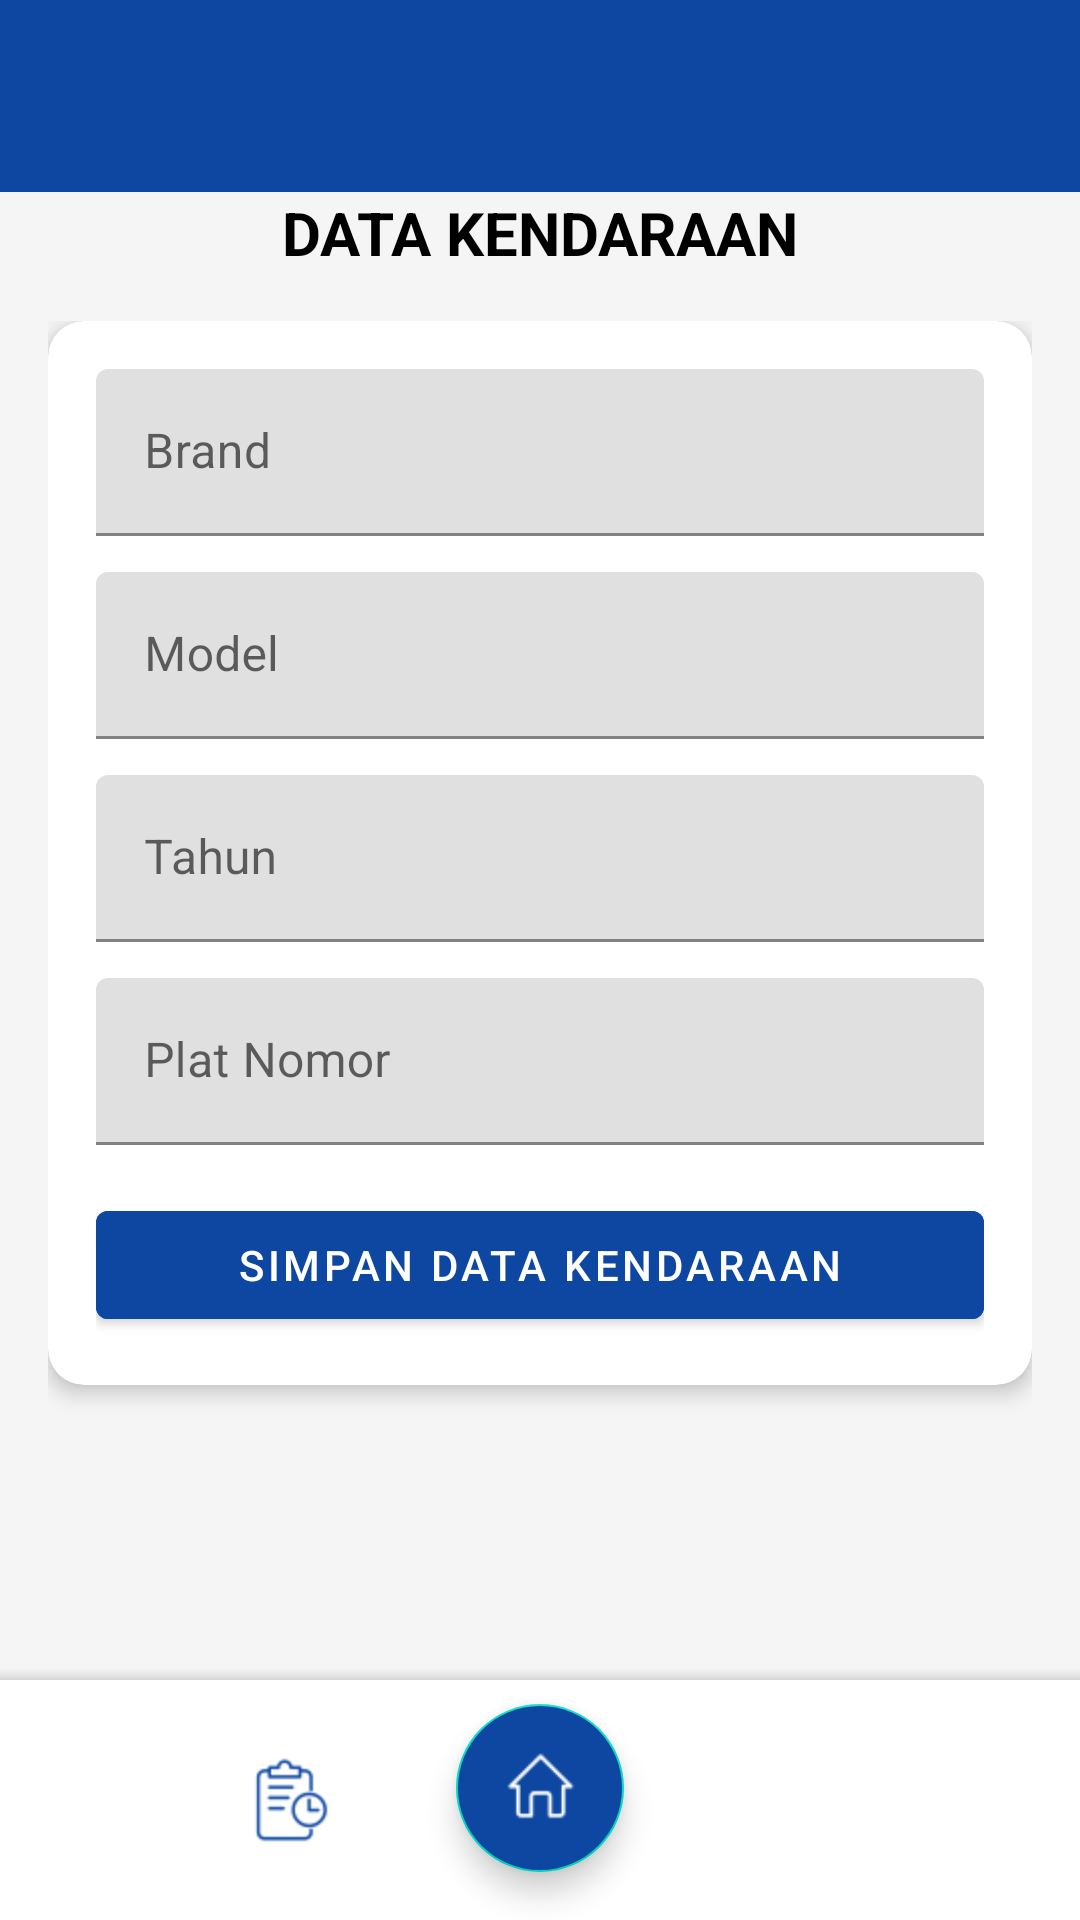

Screen size 1080×1920. Icon name, then its center in pixels as [x,y]:
History: [292,1800]
home: [540,1788]
